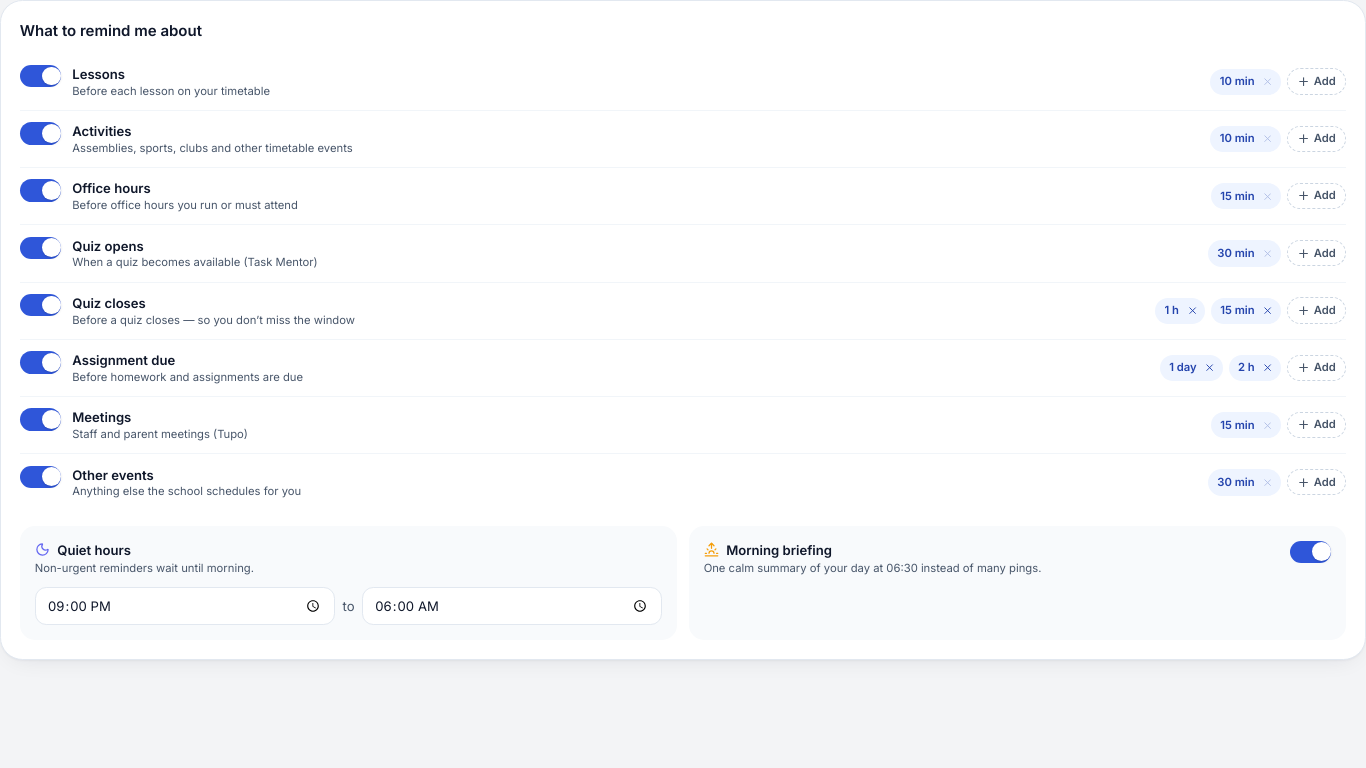
PreferencesPanel › shows a save error instead of pretending it worked
The width and height of the screenshot is (1366, 768).
Click the switch named "Meetings" at (40, 420), box [20,408,61,431]
Wait 700 ms
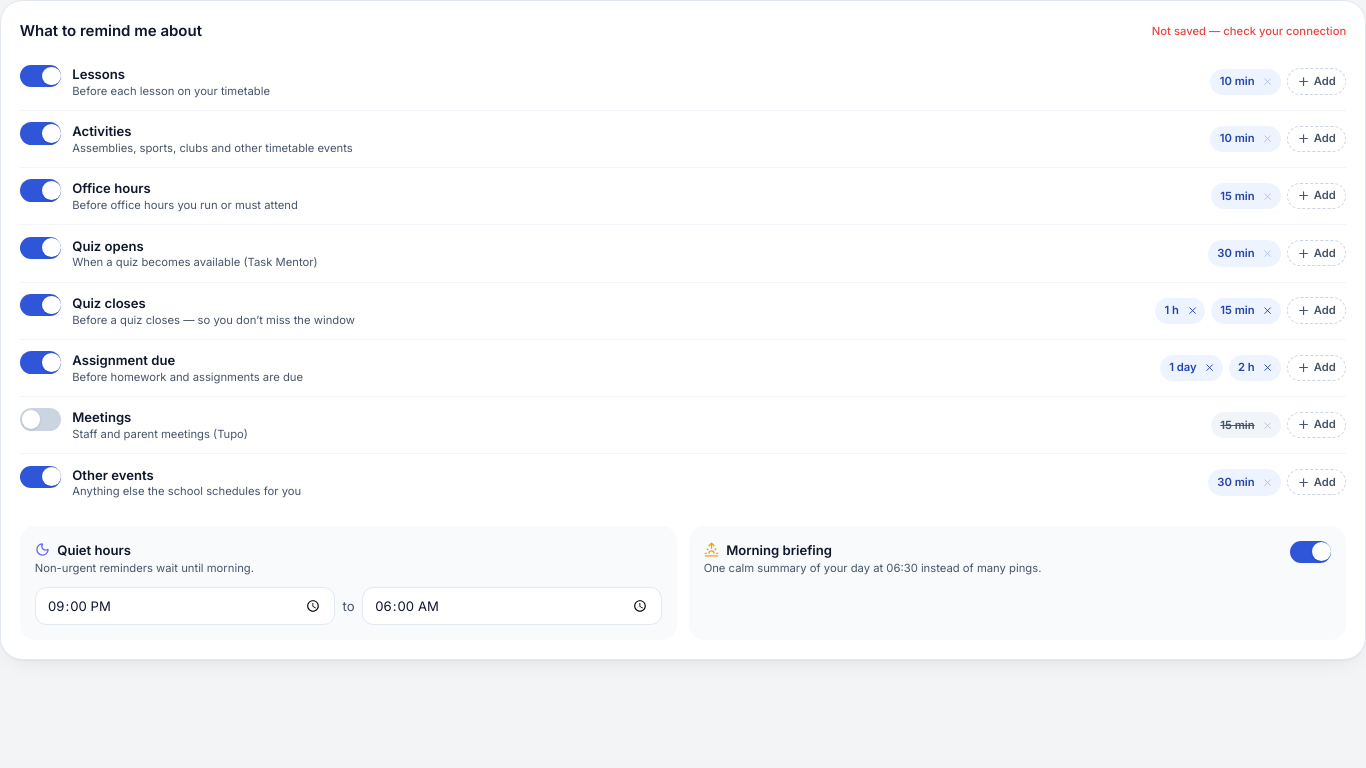
Check: the message shows "Not saved", box [1152,24,1346,38]
